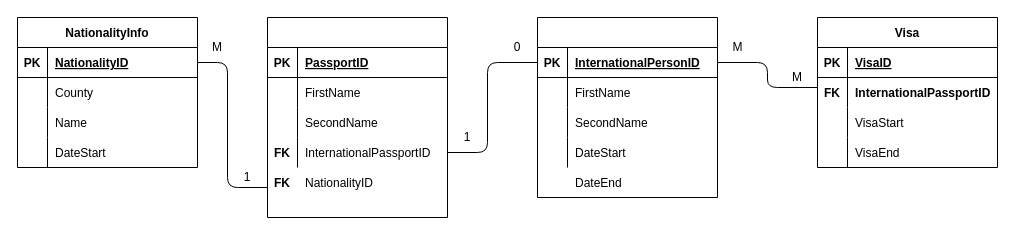
The diagram is 1015 pixels wide and 235 high, and some of its shapes have lost their labels. Each missing label, with the box of its shape:
InternationalPassportInfo: (536, 16, 718, 198)
PassportInfo: (266, 16, 448, 218)
